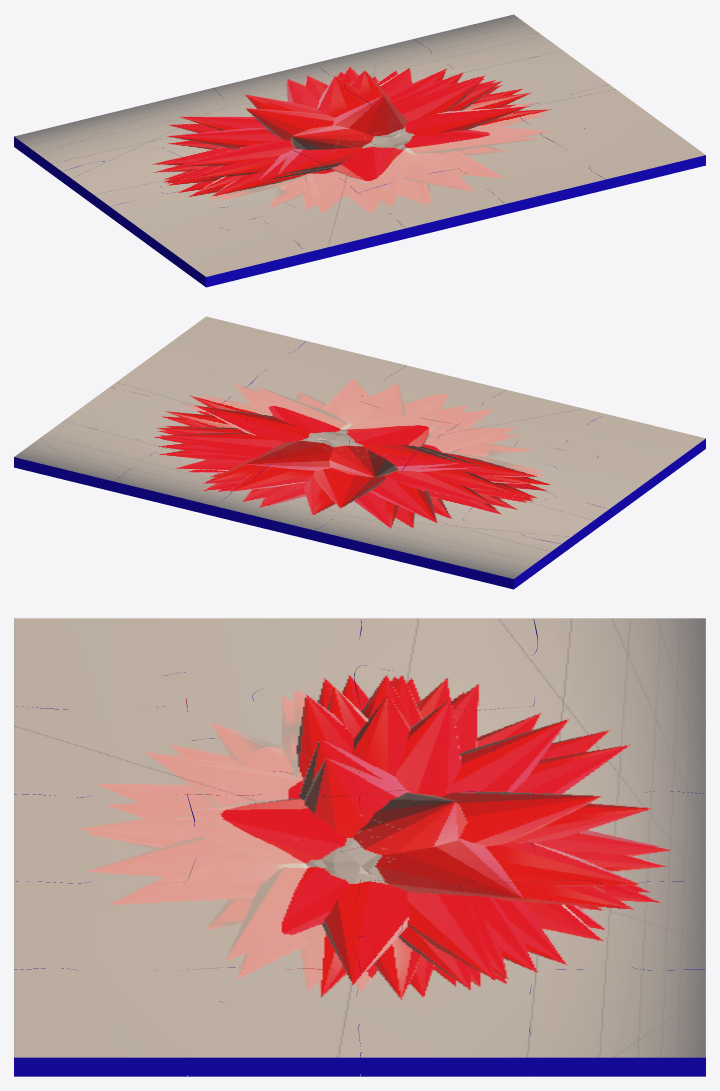
Rendered from PuzzleWithImage.fbx.
3 views of the same model, one above another, from view 1: azimuth 30°, elevation 25°; view 2: azimuth 150°, elevation 25°; view 3: azimuth 270°, elevation 25° (orthographic). The views are drawn at different scales.
Parts seen in each view (by area): view 1: path17, path2, path19, path21, path18, path20, path14, path4, path8, path6, path3, path15 (+8 smaller); view 2: path2, path4, path3, path6, path14, path5, path15, path17, path8, path10, path19, path18 (+8 smaller); view 3: path6, path8, path18, path12, path15, path2, path3, path14, path4, path17, path11, path19 (+8 smaller).
Boxes of the visible parts, x1=… form: path17: x1=455, y1=144, x2=613, y2=214; path2: x1=14, y1=112, x2=164, y2=181; path19: x1=256, y1=193, x2=405, y2=262; path21: x1=158, y1=217, x2=305, y2=287; path18: x1=558, y1=120, x2=705, y2=189; path20: x1=358, y1=169, x2=505, y2=238; path14: x1=110, y1=182, x2=257, y2=251; path4: x1=214, y1=63, x2=366, y2=122; path8: x1=462, y1=49, x2=609, y2=108; path6: x1=408, y1=14, x2=561, y2=73; path3: x1=114, y1=87, x2=264, y2=146; path15: x1=410, y1=109, x2=562, y2=168; path2: x1=412, y1=520, x2=561, y2=589; path4: x1=206, y1=471, x2=361, y2=540; path3: x1=310, y1=495, x2=461, y2=564; path6: x1=14, y1=422, x2=167, y2=491; path14: x1=510, y1=449, x2=657, y2=518; path5: x1=114, y1=446, x2=261, y2=516; path15: x1=206, y1=376, x2=357, y2=435; path17: x1=255, y1=341, x2=406, y2=400; path8: x1=62, y1=387, x2=212, y2=446; path10: x1=462, y1=484, x2=609, y2=553; path19: x1=458, y1=389, x2=607, y2=449; path18: x1=158, y1=316, x2=305, y2=375; path6: x1=529, y1=945, x2=705, y2=1076; path8: x1=356, y1=949, x2=533, y2=1076; path18: x1=14, y1=968, x2=224, y2=1076; path12: x1=185, y1=967, x2=374, y2=1076; path15: x1=181, y1=863, x2=402, y2=992; path2: x1=486, y1=618, x2=705, y2=727; path3: x1=494, y1=704, x2=705, y2=817; path14: x1=146, y1=618, x2=393, y2=710; path4: x1=484, y1=791, x2=705, y2=906; path17: x1=14, y1=860, x2=204, y2=991; path11: x1=324, y1=789, x2=535, y2=903; path19: x1=14, y1=685, x2=216, y2=797.
Size of the model in its own units: 29.99 by 0.5979 by 19.97.
